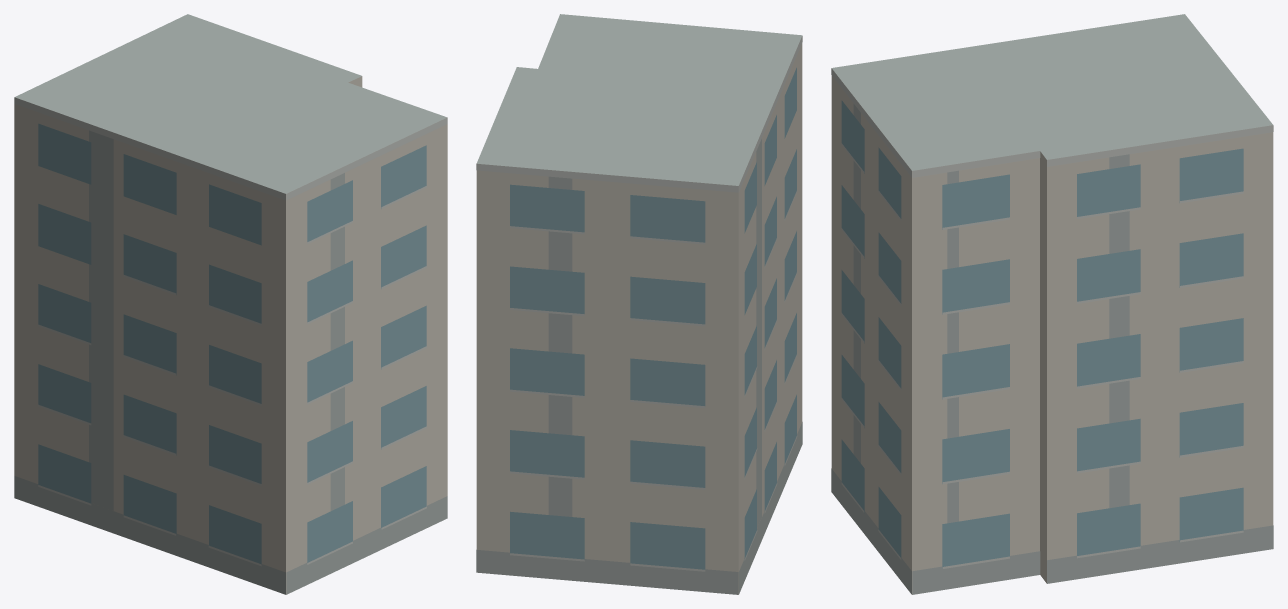
Rendered from survey-upis-32975706.glb.
3 renders of one model, left to right at view 1: azimuth 30°, elevation 25°; view 2: azimuth 150°, elevation 25°; view 3: azimuth 270°, elevation 25°, orthographic. The views are drawn at different scales.
Parts seen in each view (by area): view 1: survey-upis-32975706.tmp; view 2: survey-upis-32975706.tmp; view 3: survey-upis-32975706.tmp.
Part boxes in pixels (bbox=[...]): survey-upis-32975706.tmp: bbox=[14, 14, 447, 594]; survey-upis-32975706.tmp: bbox=[476, 14, 802, 594]; survey-upis-32975706.tmp: bbox=[831, 14, 1273, 594].
Bounding box in the file's own units: 11.72 × 14.75 × 13.95.
